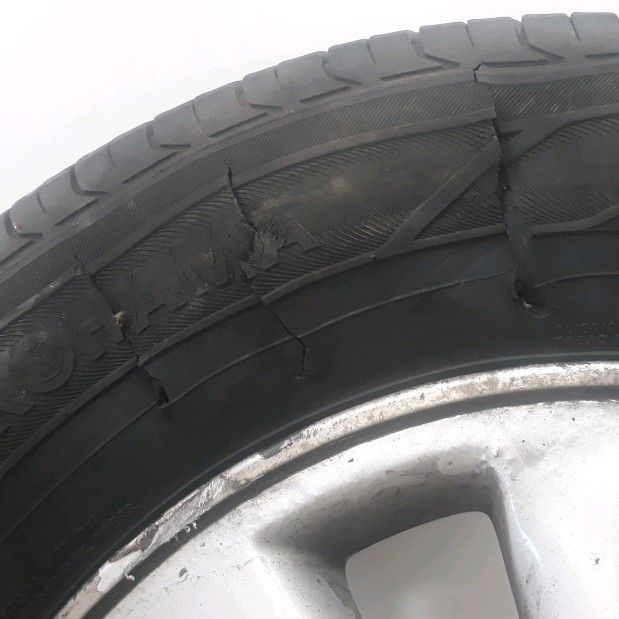cut: (465, 56, 566, 332), (218, 157, 321, 388), (64, 242, 187, 426)
